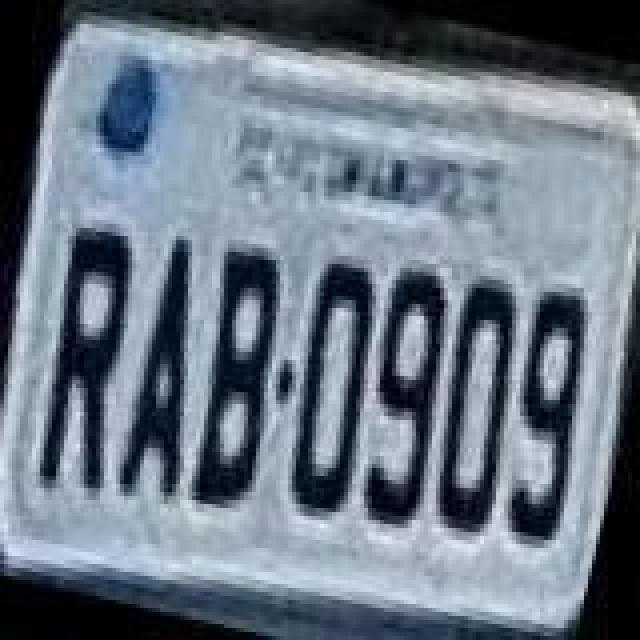9: (342, 268, 474, 532), (486, 288, 610, 544)
A: (114, 230, 238, 506)
B: (168, 244, 304, 516)
O: (414, 276, 546, 540), (270, 258, 402, 518)
R: (16, 222, 160, 498)
